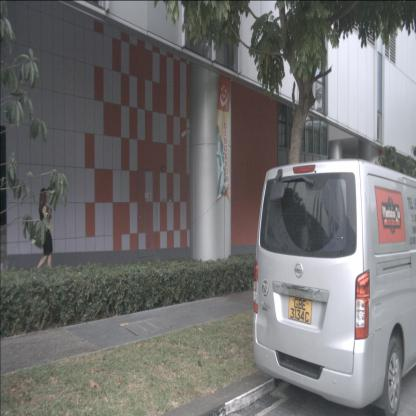human-pedestrian-adult: (34, 188, 53, 279)
vehicle-car: (252, 158, 416, 415)
